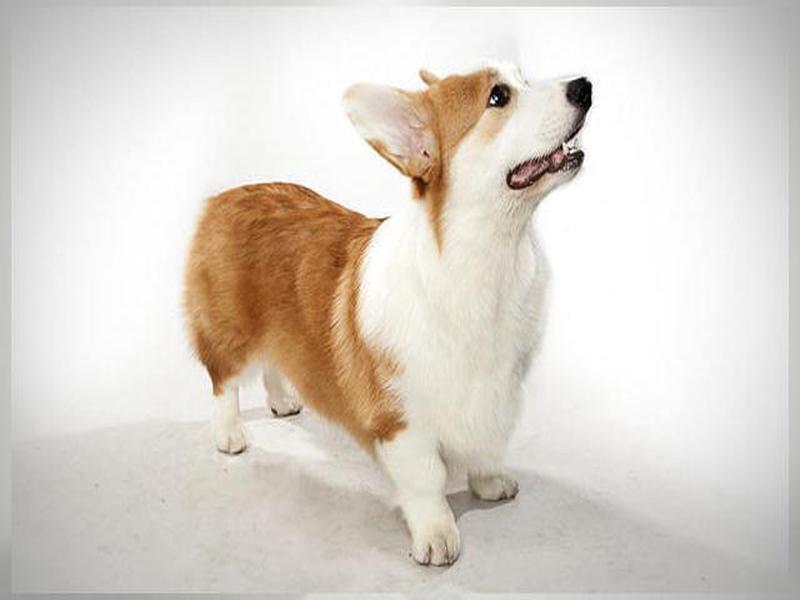corgi: (338, 44, 594, 206)
